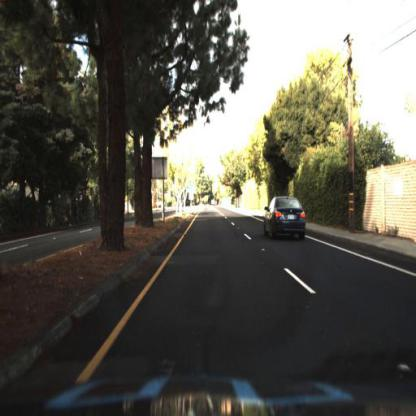car: (263, 196, 309, 242)
